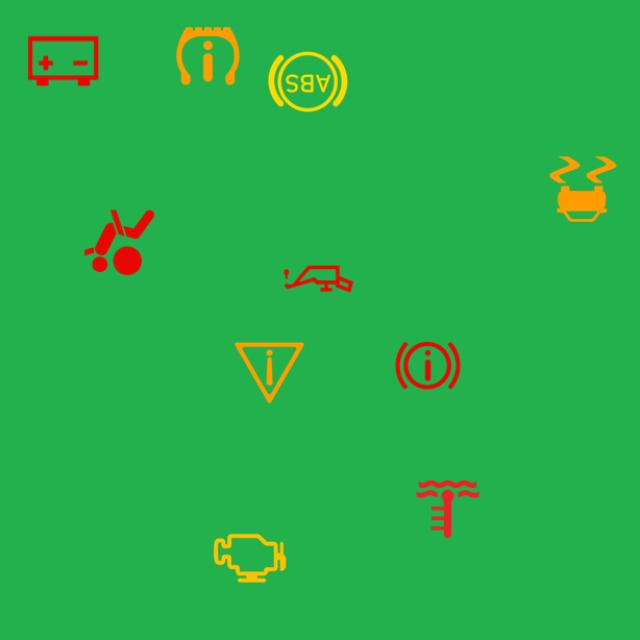Anti Lock Braking System: (265, 39, 351, 125)
Braking System Issue: (385, 322, 471, 408)
Charging System Issue: (20, 18, 106, 104)
Check Engine: (206, 515, 292, 601)
Electronic Stability Problem -ESP-: (540, 146, 626, 232)
Engine Overheating Warning Light: (404, 466, 490, 552)
Low Engine Oil Warning Light: (276, 236, 362, 322)
Low Tire Pressure Warning Light: (165, 13, 251, 99)
Master warning light: (226, 330, 312, 416)
SRS-Airbag: (76, 200, 162, 286)
